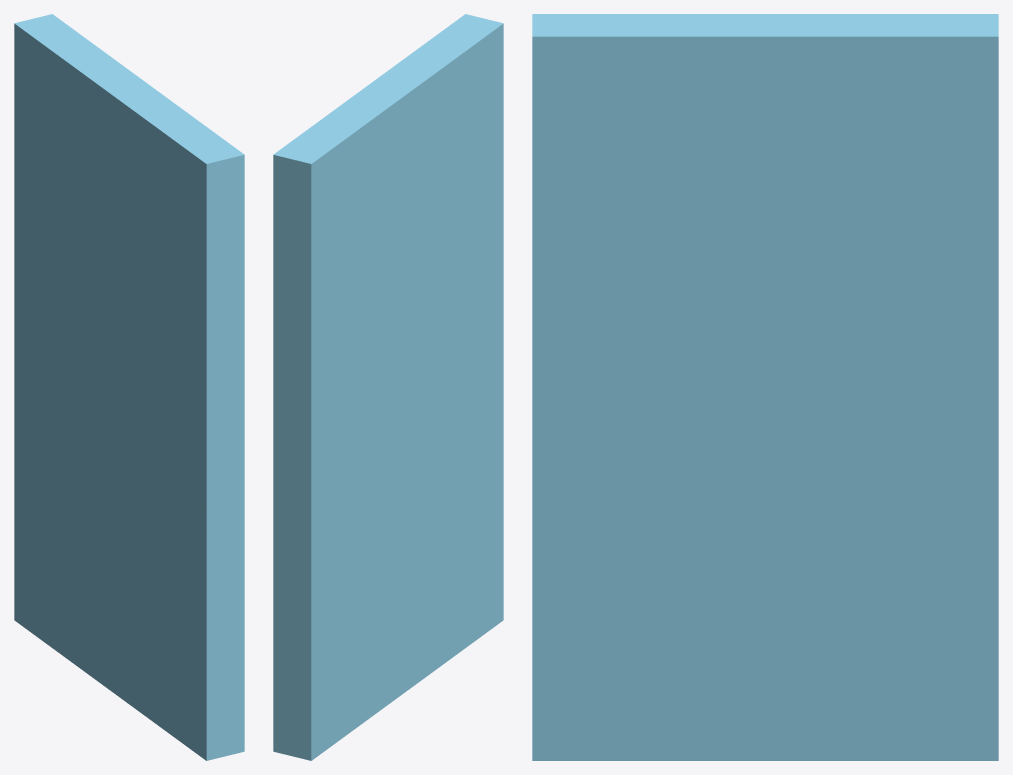
Rendered from BathroomDoor.fbx.
3 renders of one model, left to right at view 1: azimuth 30°, elevation 25°; view 2: azimuth 150°, elevation 25°; view 3: azimuth 270°, elevation 25°, orthographic. The views are drawn at different scales.
Parts seen in each view (by area): view 1: BathroomDoor; view 2: BathroomDoor; view 3: BathroomDoor.
Part boxes in pixels (x1=…): BathroomDoor: x1=14, y1=14, x2=244, y2=760; BathroomDoor: x1=273, y1=14, x2=503, y2=760; BathroomDoor: x1=532, y1=14, x2=998, y2=760.
Bounding box in the file's own units: 13.68 × 204 × 119.
